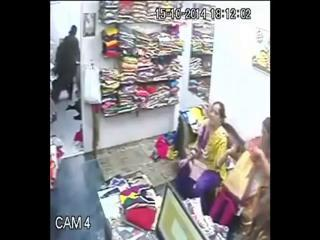Normal: (175, 102, 234, 208), (51, 24, 80, 104)
